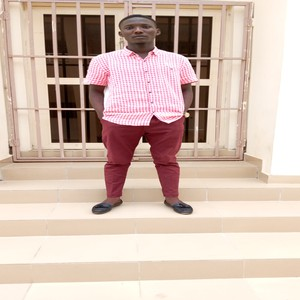Fulokoja_male_student: (96, 15, 194, 218)
